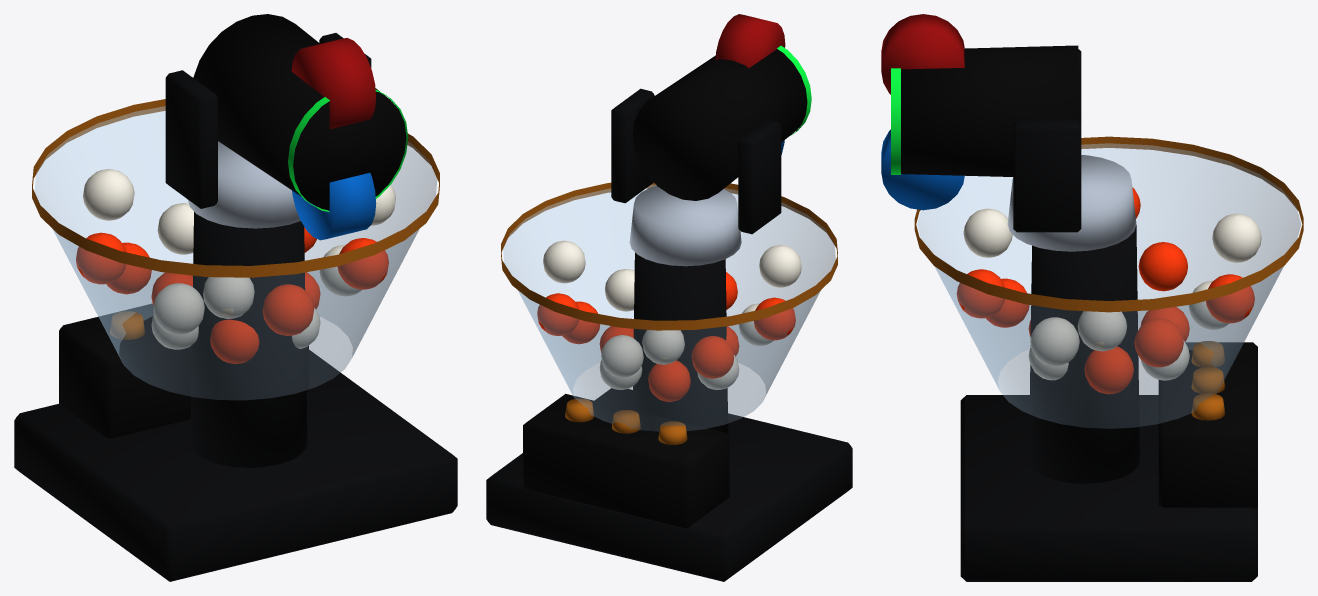
Rendered from cozy_tt_robot_launcher.obj.
3 renders of one model, left to right at view 1: azimuth 30°, elevation 25°; view 2: azimuth 150°, elevation 25°; view 3: azimuth 270°, elevation 25°, orthographic. The views are drawn at different scales.
Parts seen in each view (by area): view 1: cozy_tt_robot_launcher_Mesh; view 2: cozy_tt_robot_launcher_Mesh; view 3: cozy_tt_robot_launcher_Mesh.
Part boxes in pixels (<box>): cozy_tt_robot_launcher_Mesh: <box>14,14,457,581</box>; cozy_tt_robot_launcher_Mesh: <box>486,14,852,581</box>; cozy_tt_robot_launcher_Mesh: <box>881,14,1303,581</box>.
Size of the model in its own units: 0.314 by 0.439 by 0.341.
